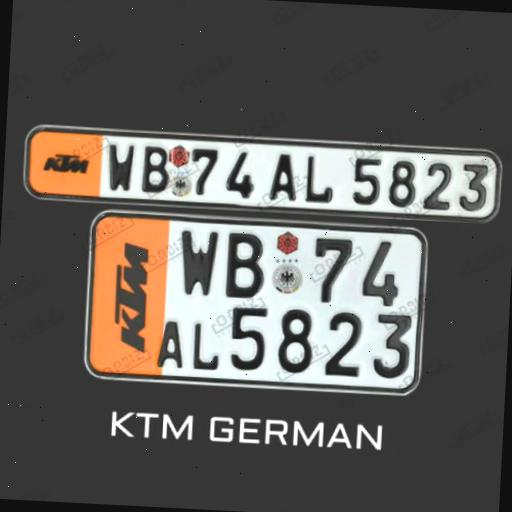number plate: (82, 210, 432, 396), (22, 123, 504, 224)
